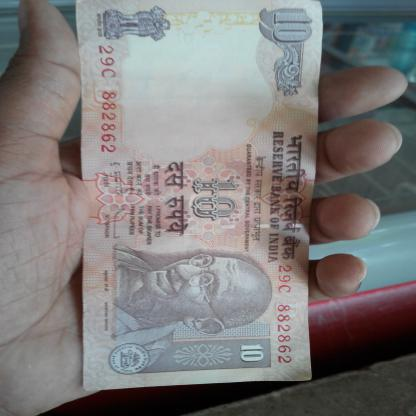Old10Front: (77, 0, 328, 394)
